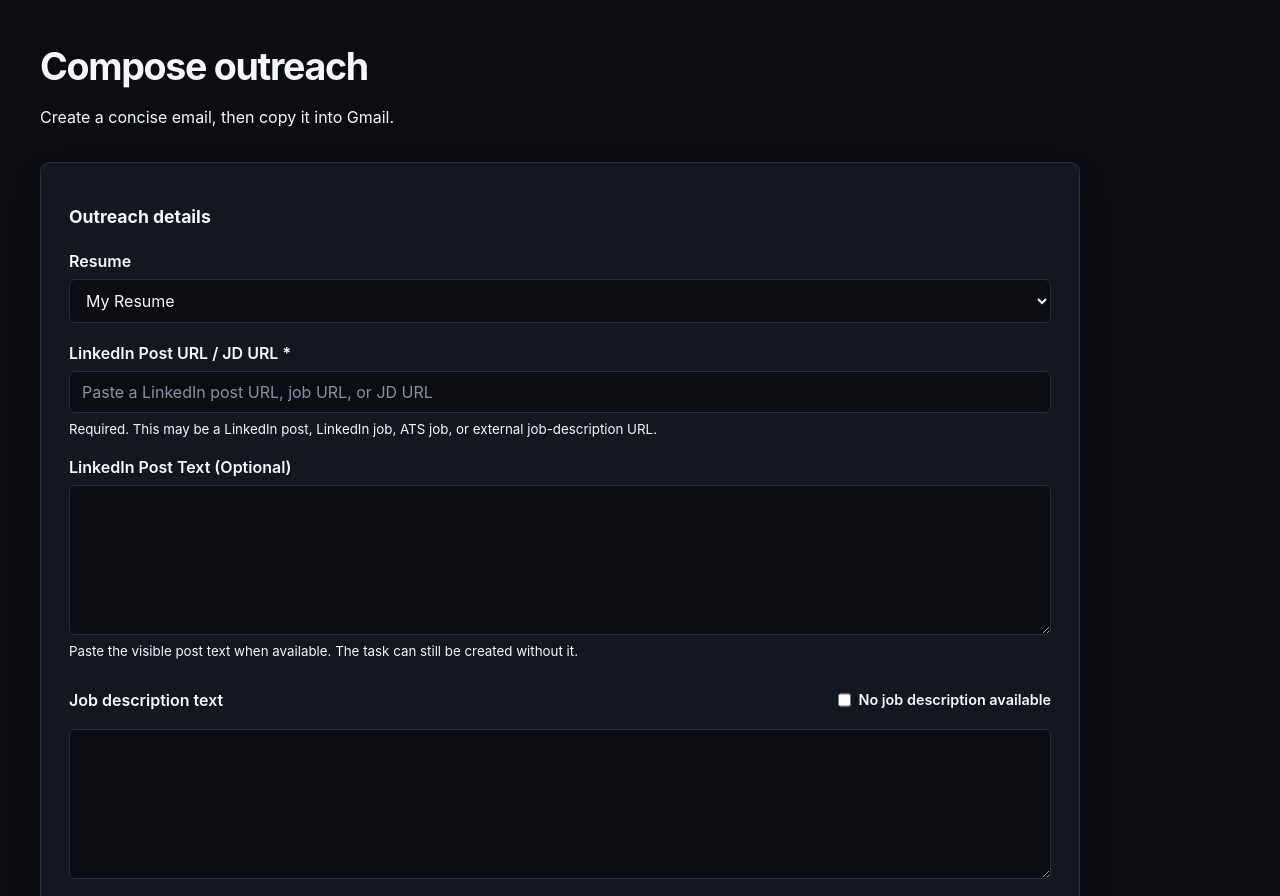
Test: OutreachPage › shows Gmail connection states and creates one Gmail draft explicitly
This screenshot has width=1280, height=896.
Type "https://jobs.example.com/role" into the field labelled "LinkedIn Post URL / JD URL *" at (560, 392), box [69,371,1051,413]
(page scrolled)
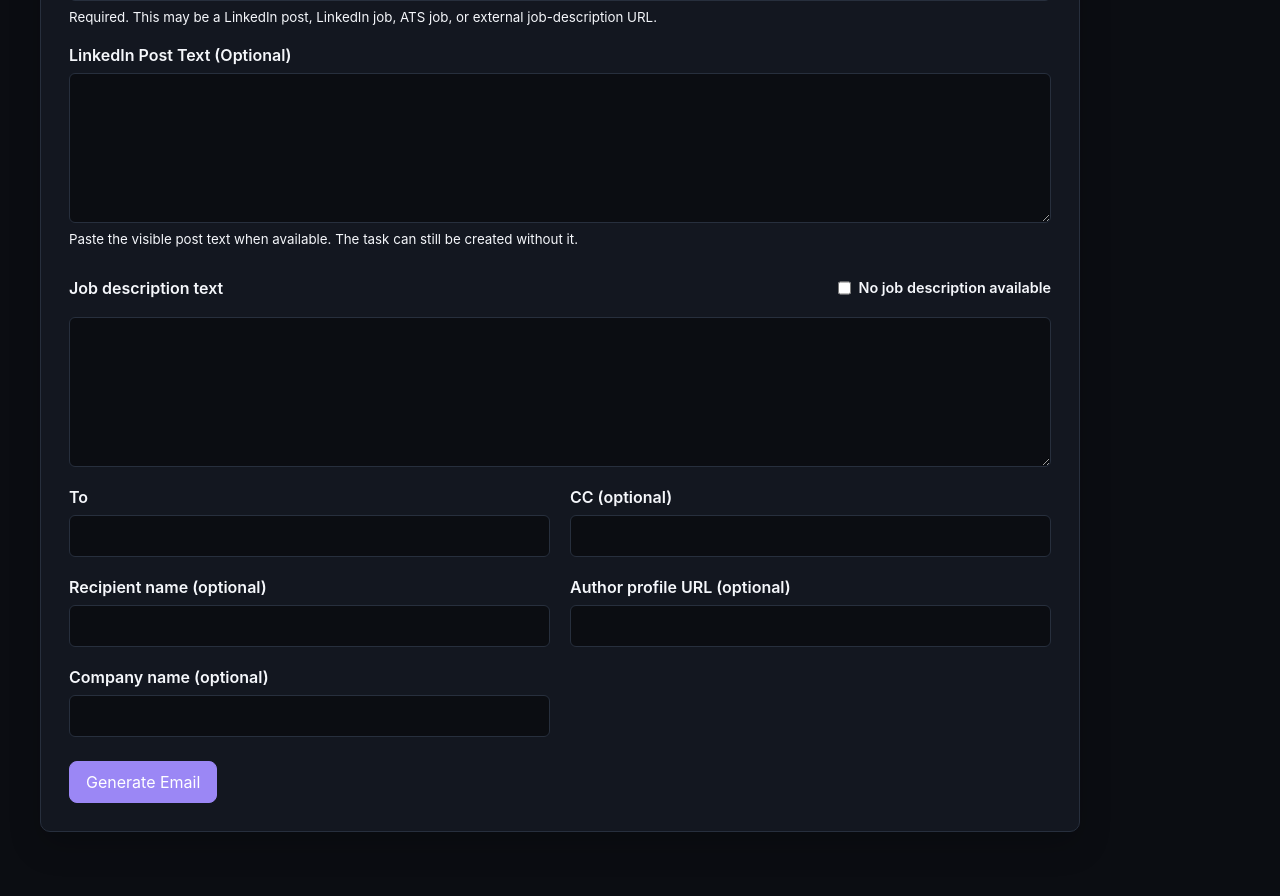
Type "recipient@example.com" into the field labelled "To" at (310, 536), box [69,515,550,557]
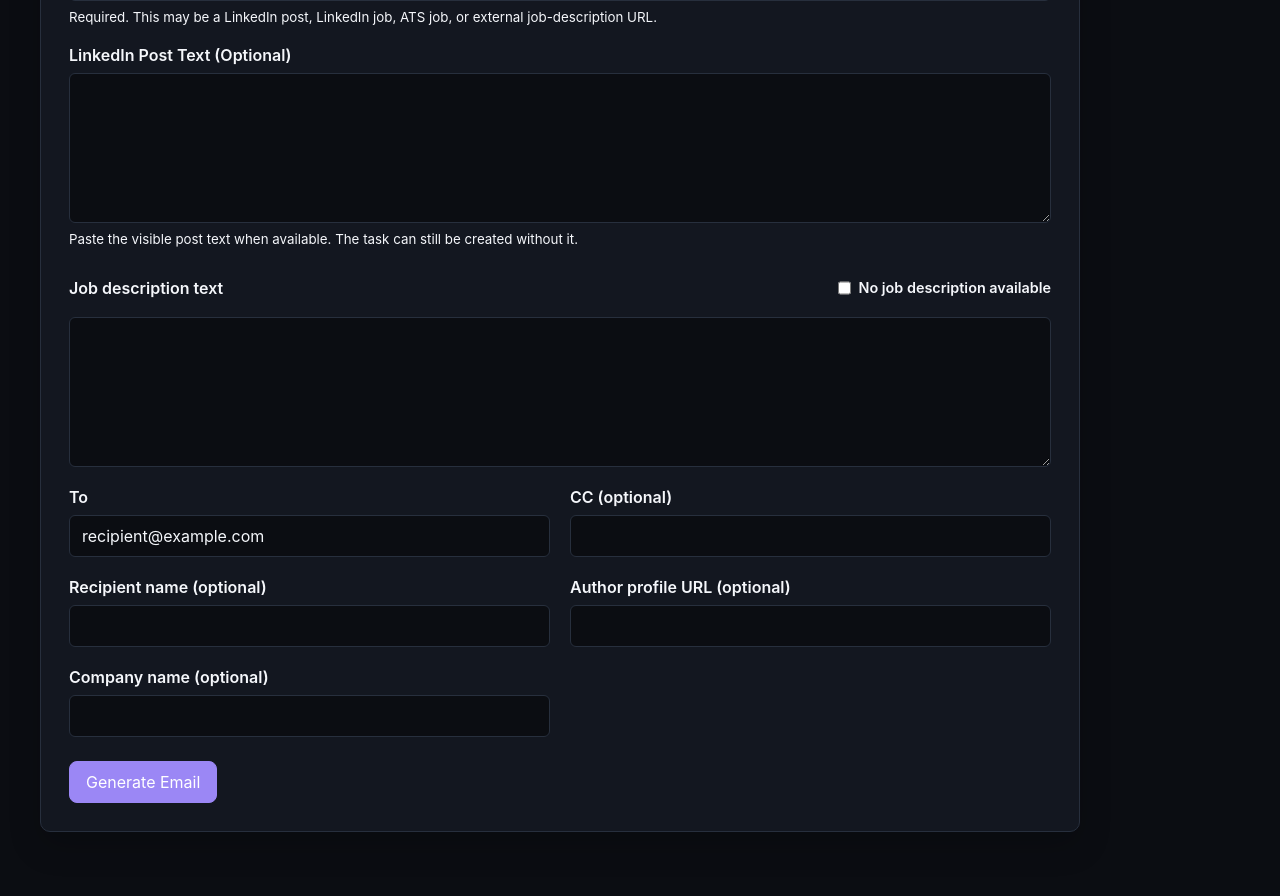
Click the button "Generate Email" at (143, 782), box [69,761,217,803]
(page scrolled)
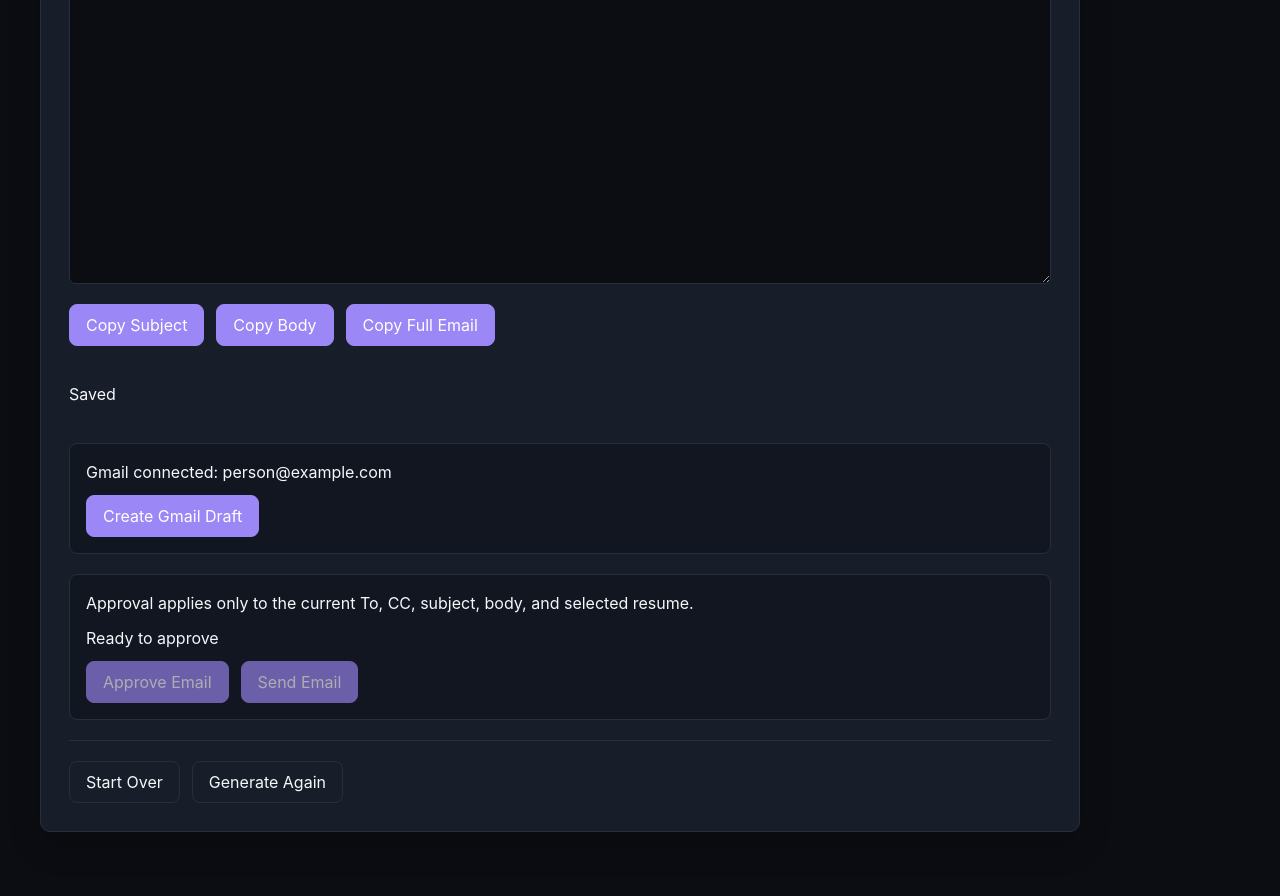
Expected: the button "Create Gmail Draft" is shown
Click the button "Create Gmail Draft" at (173, 516), box [86,495,259,537]
(page scrolled)
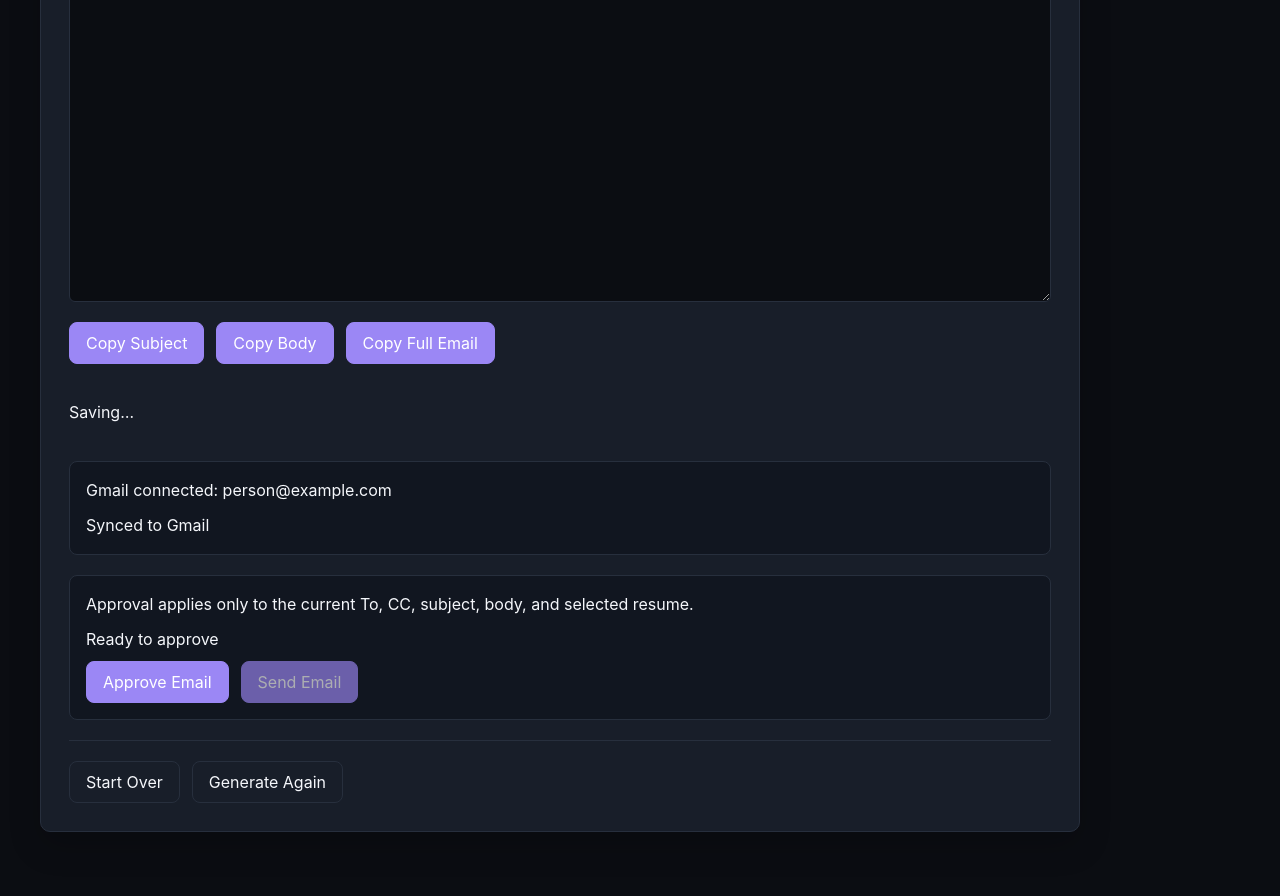
Expected: the text "Gmail connected: person@example.com" is shown, [86,480,392,500]
Expected: the button "Send Email" is disabled, [240,661,358,703]
Expected: the text "Synced to Gmail" is shown, [86,515,209,535]
